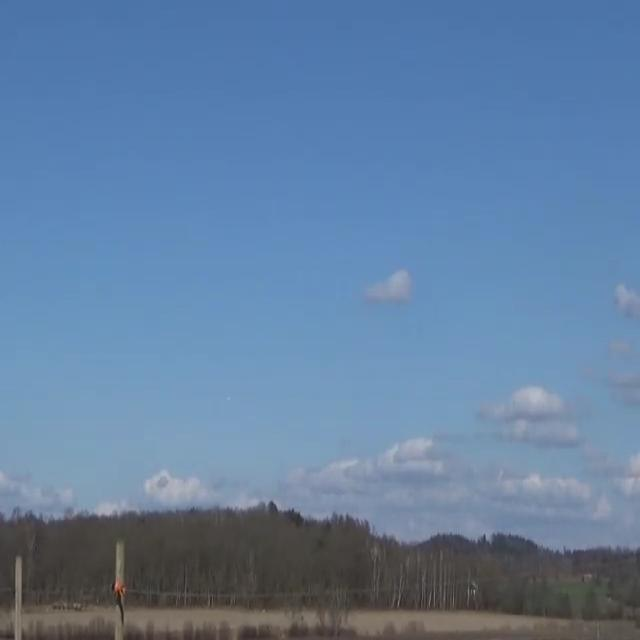Drone: (219, 385, 241, 411)
